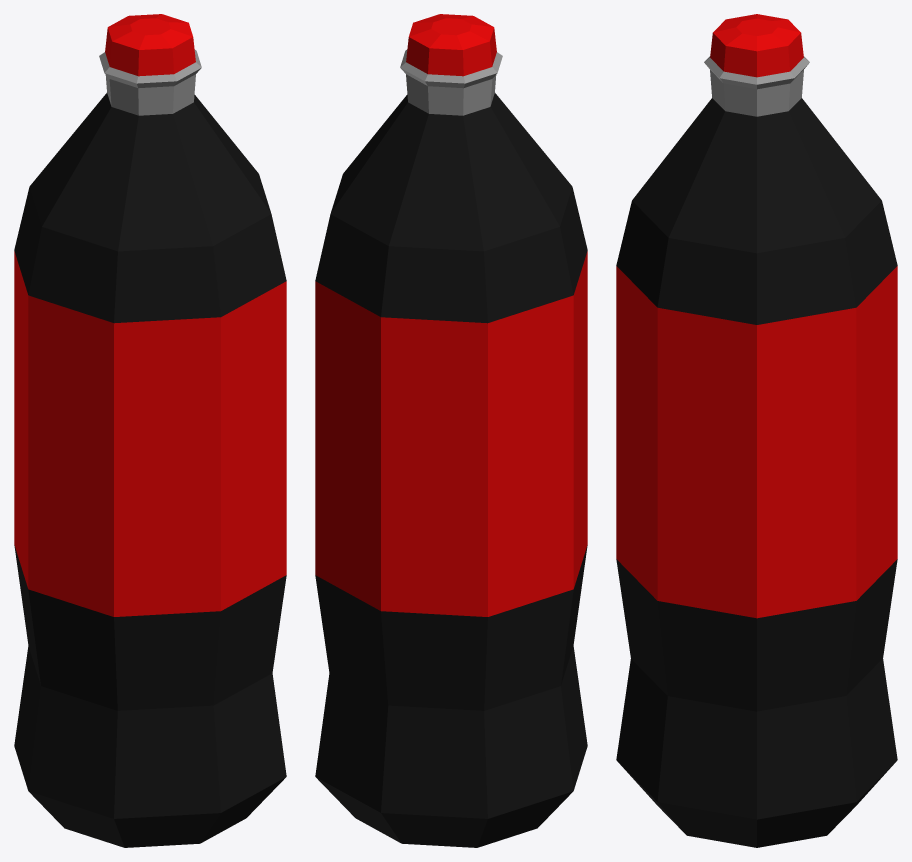
Rendered from SodaBottle.FBX.
3 renders of one model, left to right at view 1: azimuth 30°, elevation 25°; view 2: azimuth 150°, elevation 25°; view 3: azimuth 270°, elevation 25°, orthographic.
Visible parts, largest first — view 1: Cylinder001; view 2: Cylinder001; view 3: Cylinder001.
Part boxes in pixels (bbox=[...]): Cylinder001: bbox=[14, 14, 286, 847]; Cylinder001: bbox=[315, 14, 587, 847]; Cylinder001: bbox=[616, 14, 897, 847].
Bounding box in the file's own units: 13.1 × 40 × 13.1.
